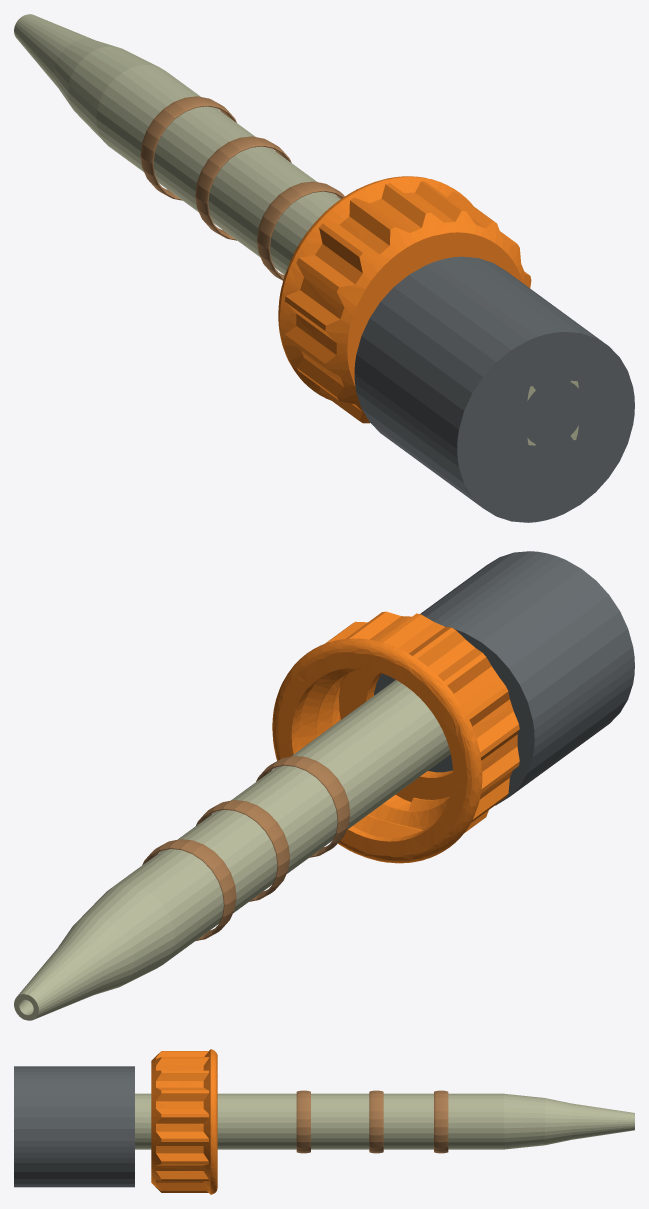
File: tinker.obj
3 views of the same model, one above another, from view 1: azimuth 30°, elevation 25°; view 2: azimuth 150°, elevation 25°; view 3: azimuth 270°, elevation 25° (orthographic). The views are drawn at different scales.
Visible parts, largest first — view 1: group_0_6383466, group_0_16089887, group_0_11909273, group_0_11107152; view 2: group_0_11909273, group_0_16089887, group_0_6383466, group_0_11107152; view 3: group_0_11909273, group_0_6383466, group_0_16089887, group_0_11107152.
Part boxes in pixels (bbox=[...]): group_0_6383466: bbox=[354, 256, 634, 522]; group_0_16089887: bbox=[278, 176, 531, 423]; group_0_11909273: bbox=[14, 14, 578, 445]; group_0_11107152: bbox=[140, 96, 344, 280]; group_0_11909273: bbox=[14, 680, 450, 1020]; group_0_16089887: bbox=[272, 611, 519, 863]; group_0_6383466: bbox=[374, 551, 634, 805]; group_0_11107152: bbox=[142, 756, 350, 940]; group_0_11909273: bbox=[135, 1093, 634, 1149]; group_0_6383466: bbox=[14, 1066, 134, 1187]; group_0_16089887: bbox=[151, 1049, 217, 1194]; group_0_11107152: bbox=[296, 1090, 448, 1153].
Size of the model in its own units: 18 by 18 by 76.91.
